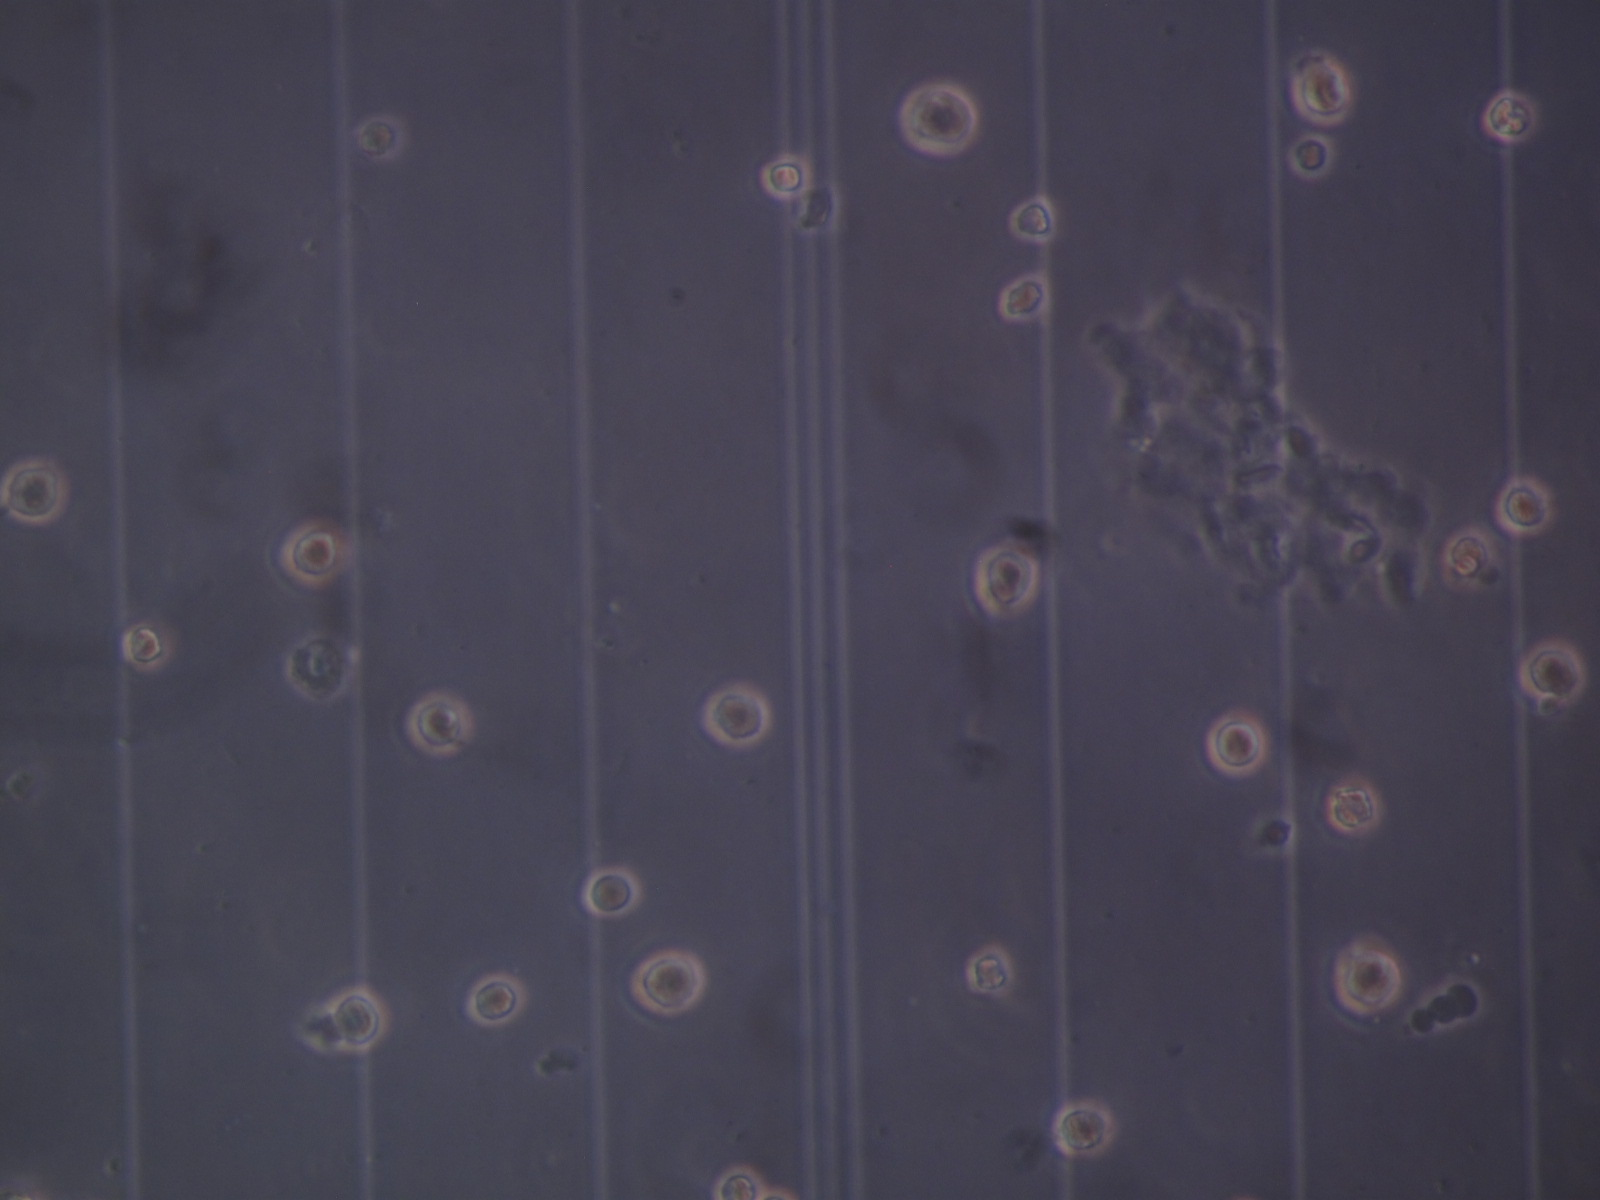hemo: (901, 83, 979, 154), (631, 949, 706, 1018), (1332, 944, 1401, 1016), (406, 691, 477, 758), (286, 635, 350, 703), (278, 523, 346, 587), (976, 548, 1039, 616), (704, 683, 769, 747), (1516, 644, 1585, 703), (326, 984, 387, 1051), (3, 461, 66, 524), (1291, 63, 1352, 125), (1206, 713, 1265, 776), (1052, 1100, 1115, 1157), (1492, 476, 1551, 536), (464, 974, 527, 1027), (1327, 780, 1382, 837), (580, 867, 639, 920), (964, 945, 1017, 1001), (1443, 529, 1490, 586), (1483, 89, 1534, 141), (122, 623, 170, 673), (1010, 193, 1058, 239), (357, 115, 404, 161), (758, 154, 808, 198), (997, 276, 1047, 319), (1291, 132, 1334, 179), (712, 1165, 763, 1200)
